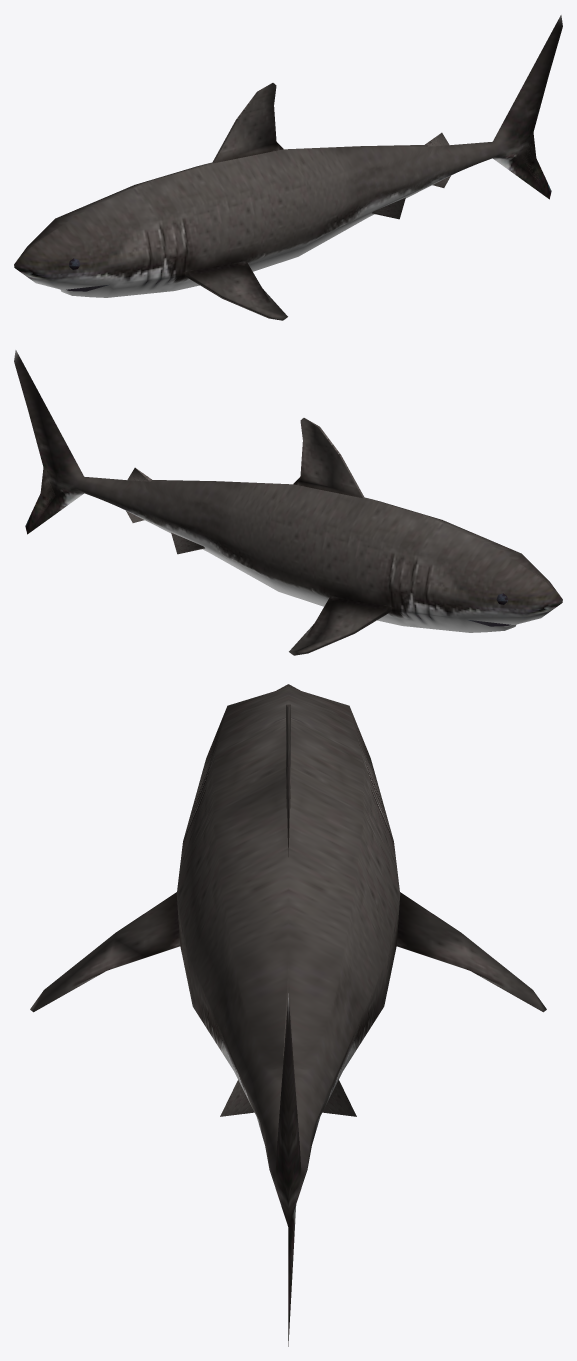
File: SG_obj_WhiteShark.FBX
The picture shows the model from 3 angles, top to bottom: view 1: azimuth 30°, elevation 25°; view 2: azimuth 150°, elevation 25°; view 3: azimuth 270°, elevation 25°; orthographic projection. The views are drawn at different scales.
Visible parts, largest first — view 1: SG_obj_WhiteShark; view 2: SG_obj_WhiteShark; view 3: SG_obj_WhiteShark.
Boxes of the visible parts, <box> form: SG_obj_WhiteShark: <box>14,15,562,320</box>; SG_obj_WhiteShark: <box>14,350,562,655</box>; SG_obj_WhiteShark: <box>30,684,546,1346</box>.
Size of the model in its own units: 2.96 by 0.9495 by 1.21.
